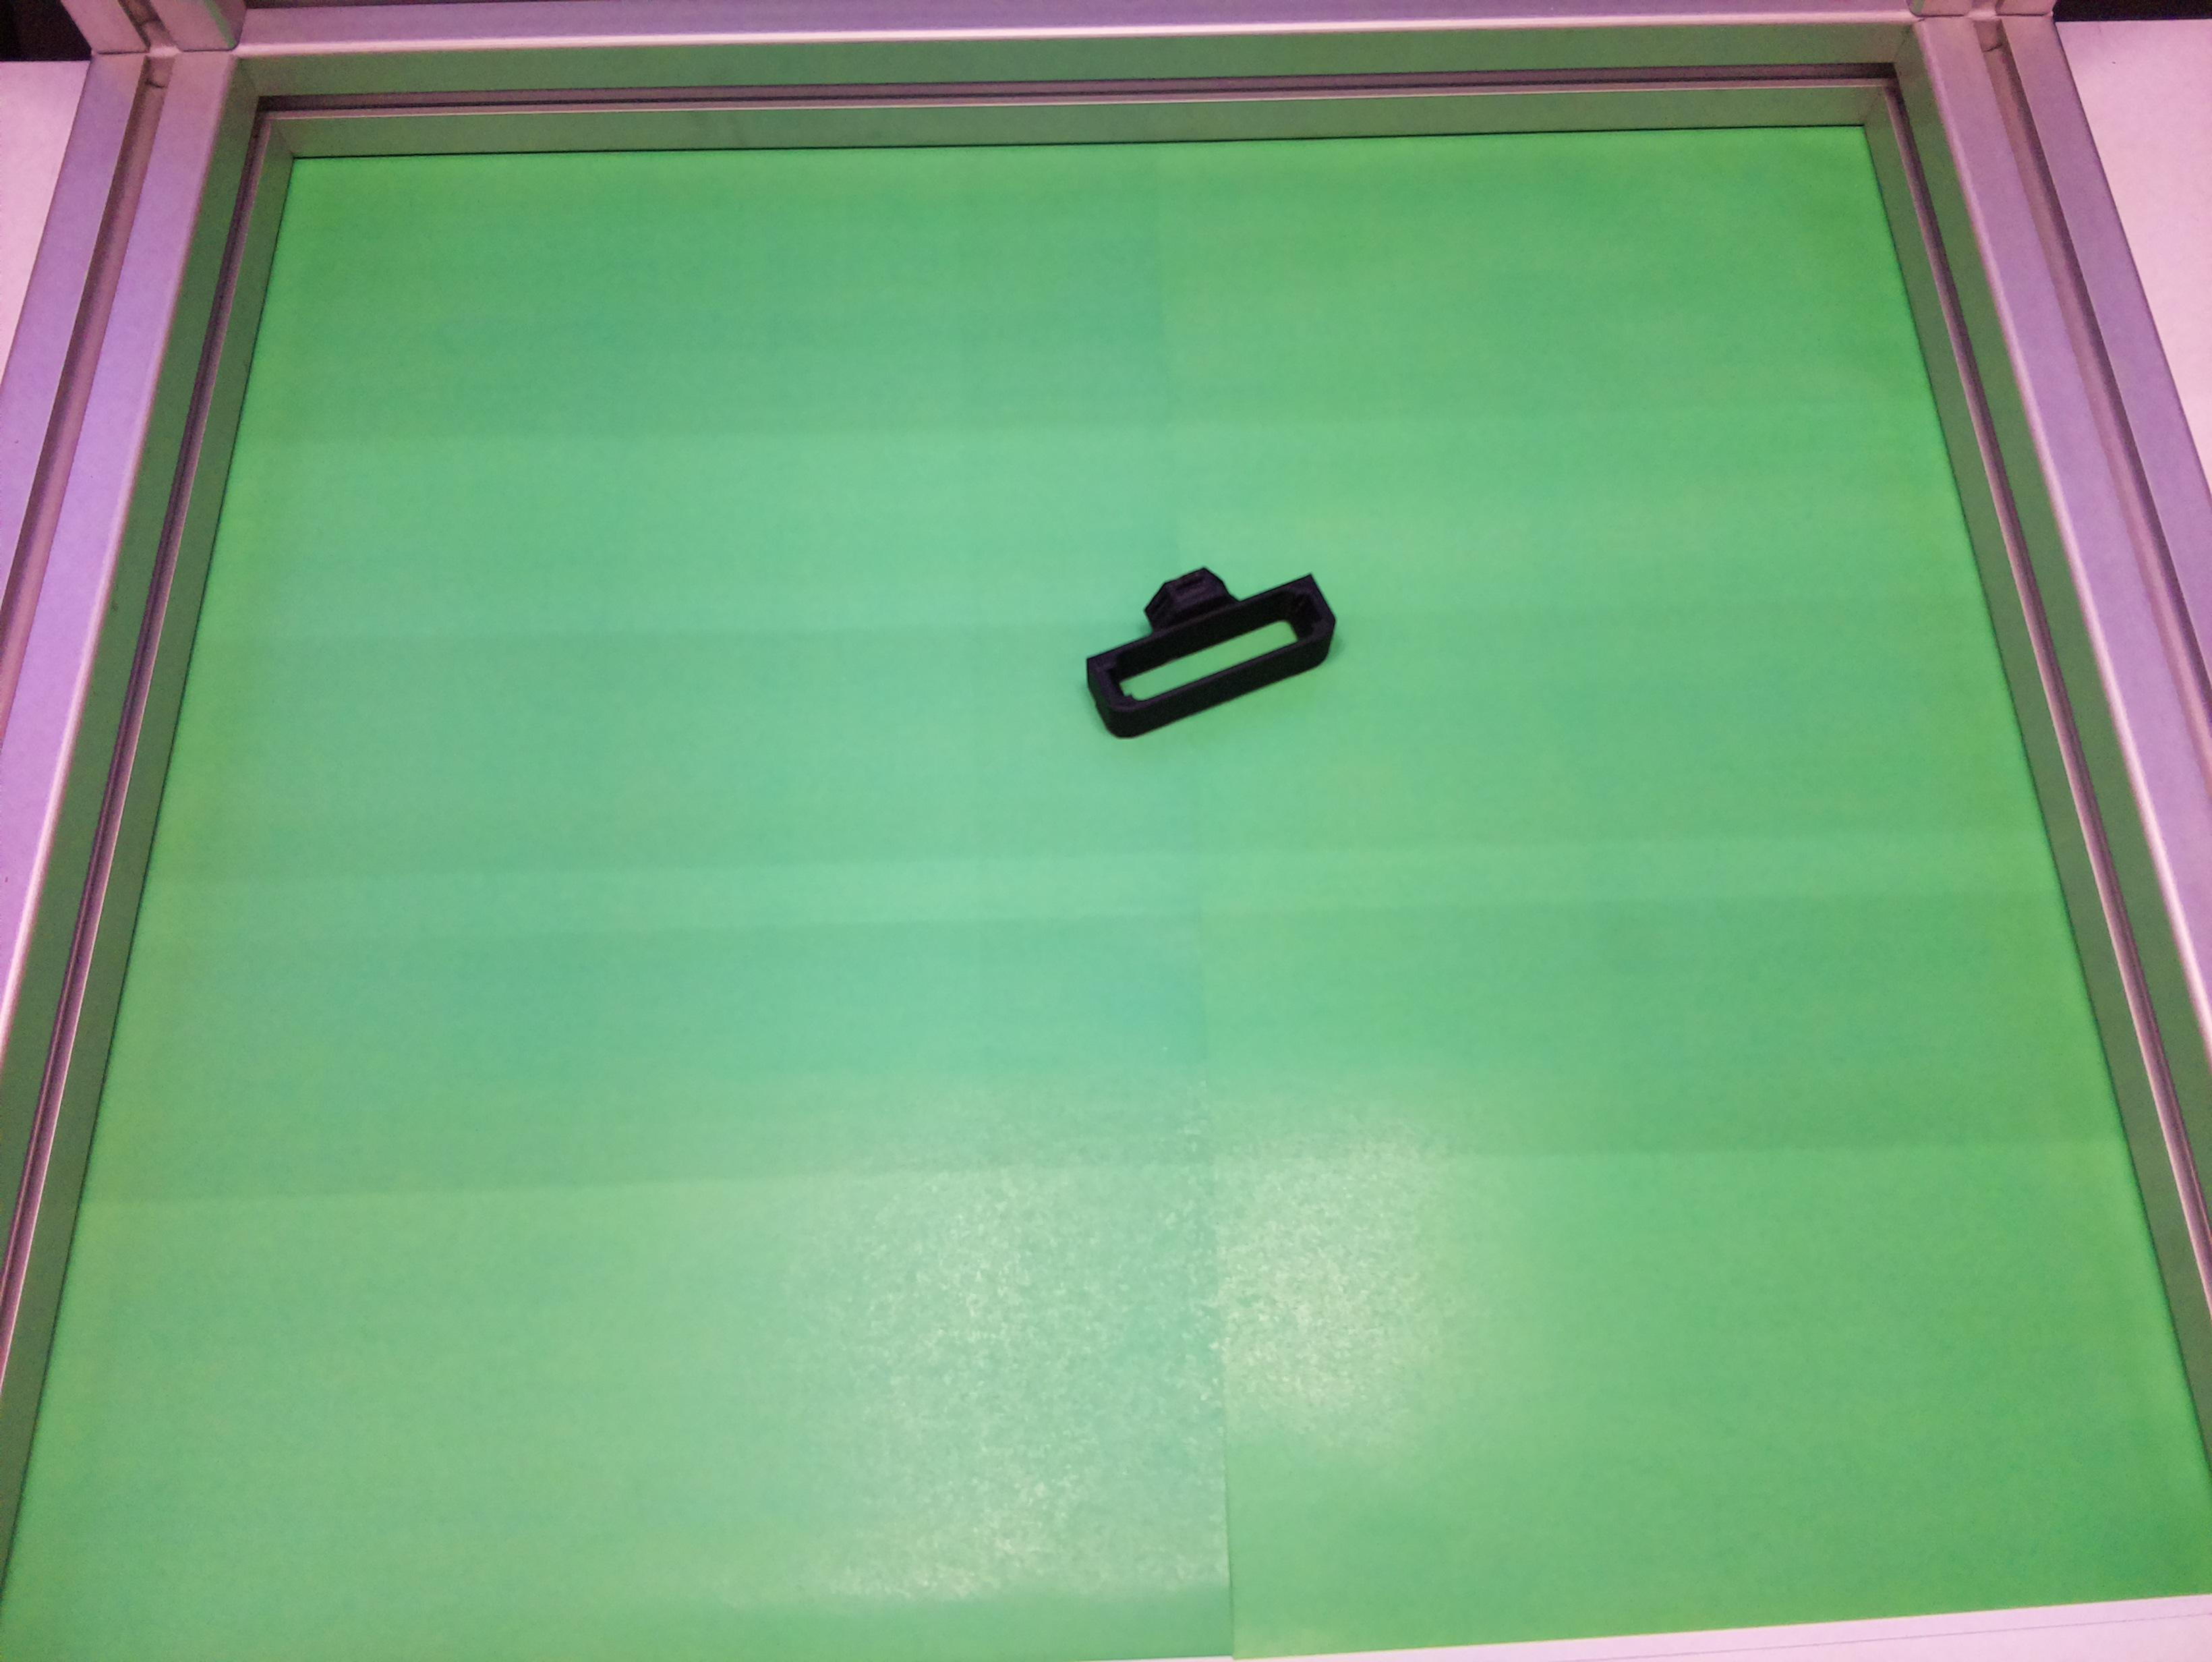cutter_holder: (1063, 529, 1350, 747)
